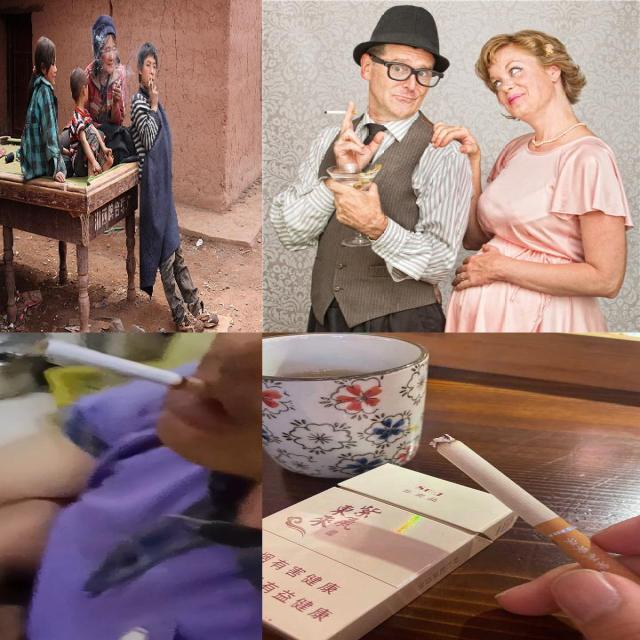smoking: (429, 432, 639, 604), (40, 339, 206, 396), (323, 105, 357, 115), (116, 78, 121, 88), (148, 80, 152, 86)
